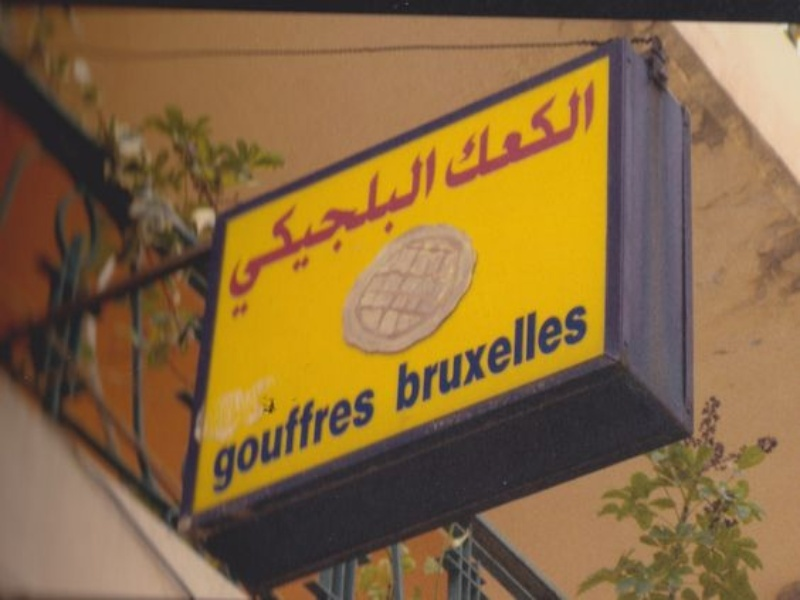text: (257, 144, 272, 332), (273, 144, 288, 332), (289, 144, 304, 332), (305, 144, 320, 332), (321, 144, 336, 332), (337, 144, 352, 332), (353, 144, 368, 332), (369, 144, 384, 332), (385, 144, 400, 332), (401, 144, 416, 332), (417, 144, 432, 332), (242, 144, 256, 332), (225, 368, 240, 498), (241, 368, 256, 498), (257, 368, 272, 498), (273, 368, 288, 498), (289, 368, 304, 498), (305, 368, 320, 498), (321, 368, 336, 498), (337, 368, 352, 498), (353, 368, 368, 498), (401, 291, 416, 416), (417, 291, 432, 416), (433, 291, 448, 416), (449, 291, 464, 416), (465, 291, 480, 416), (481, 291, 496, 416), (497, 291, 512, 416), (513, 291, 528, 416), (529, 291, 544, 416), (545, 291, 560, 416), (561, 291, 576, 416), (449, 77, 464, 195), (465, 77, 480, 195), (481, 77, 496, 195), (497, 77, 512, 195), (513, 77, 528, 195), (529, 77, 544, 195), (545, 77, 560, 195), (561, 77, 576, 195), (577, 77, 592, 195), (433, 144, 442, 332), (369, 368, 381, 498), (577, 291, 588, 416), (215, 368, 224, 498), (392, 291, 400, 416), (593, 77, 599, 195), (443, 77, 448, 195)
